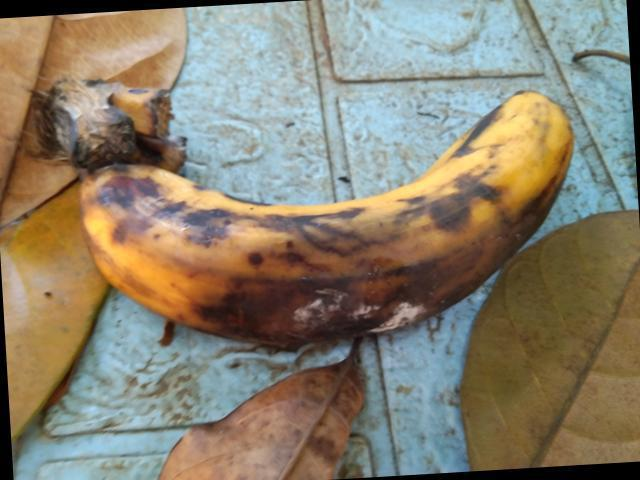rotten: (66, 80, 592, 378)
